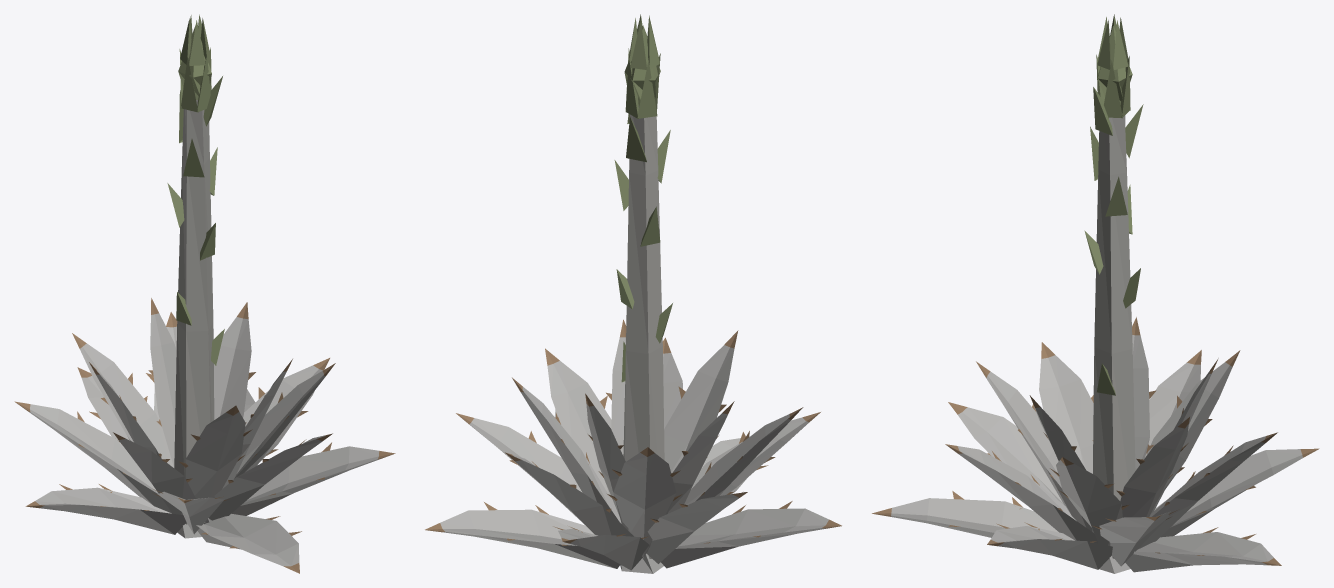
File: agave.glb
3 views of the same model, side by side, from view 1: azimuth 30°, elevation 25°; view 2: azimuth 150°, elevation 25°; view 3: azimuth 270°, elevation 25° (orthographic). The views are drawn at different scales.
Visible parts, largest first — view 1: agave; view 2: agave; view 3: agave.
Boxes of the visible parts, bbox=[...] form: agave: bbox=[14, 14, 395, 573]; agave: bbox=[425, 14, 841, 573]; agave: bbox=[872, 14, 1319, 573].
Size of the model in its own units: 1.37 by 2.03 by 1.5.
